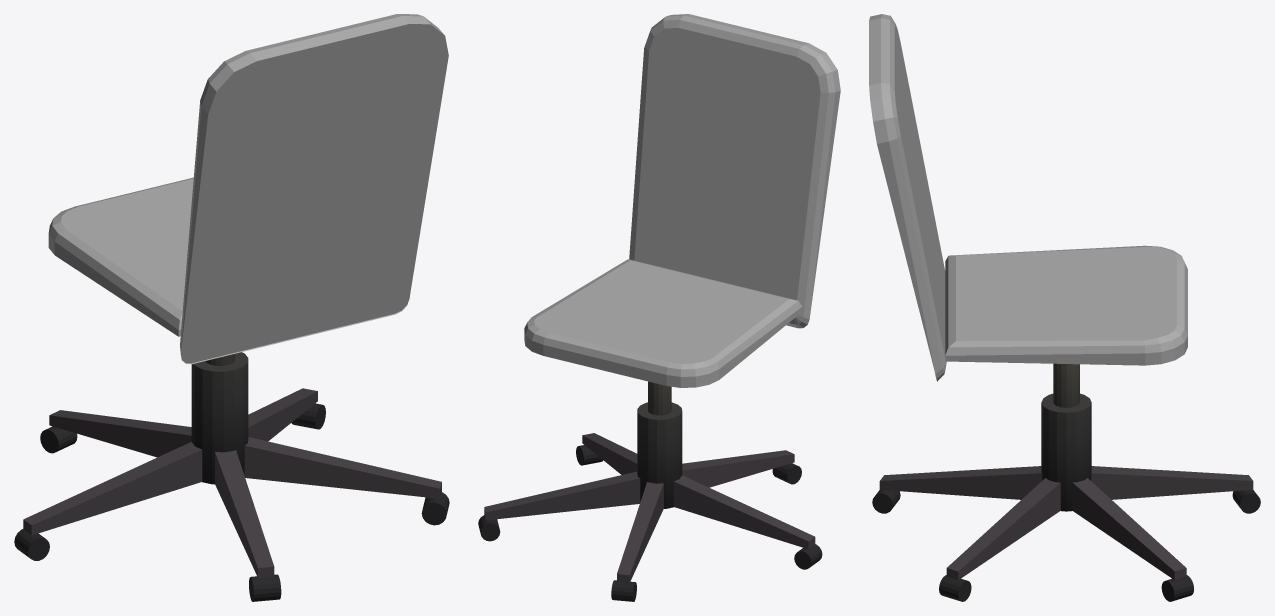
Rendered from Chair.fbx.
3 views of the same model, side by side, from view 1: azimuth 30°, elevation 25°; view 2: azimuth 150°, elevation 25°; view 3: azimuth 270°, elevation 25° (orthographic). The views are drawn at different scales.
Parts seen in each view (by area): view 1: pasted__Obj_Chair; view 2: pasted__Obj_Chair; view 3: pasted__Obj_Chair.
Part boxes in pixels (left/top/right/bottom): pasted__Obj_Chair: left=14, top=14, right=449, bottom=601; pasted__Obj_Chair: left=478, top=14, right=840, bottom=601; pasted__Obj_Chair: left=869, top=14, right=1260, bottom=601.
Size of the model in its own units: 126 by 182 by 134.
Materials: 2 (1 with a texture image).
